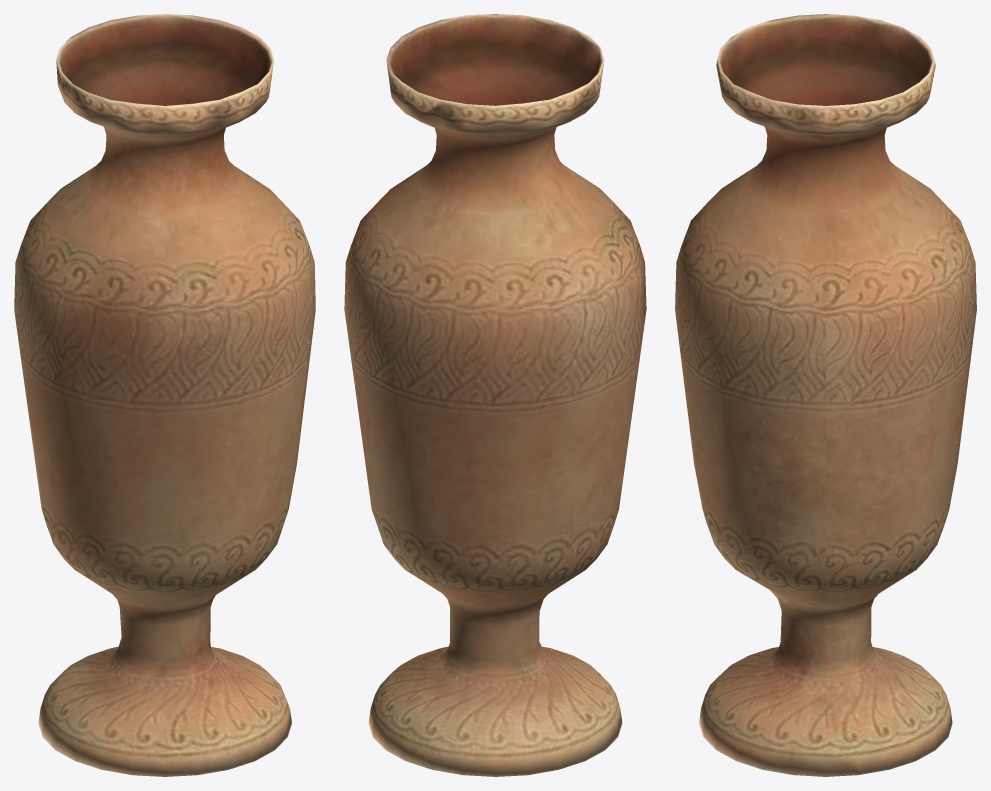
File: brass_vase_03.glb
3 renders of one model, left to right at view 1: azimuth 30°, elevation 25°; view 2: azimuth 150°, elevation 25°; view 3: azimuth 270°, elevation 25°, orthographic.
Visible parts, largest first — view 1: brass_vase_03; view 2: brass_vase_03; view 3: brass_vase_03.
Boxes of the visible parts, x1,y1,x2,y2 form: brass_vase_03: [14, 14, 315, 776]; brass_vase_03: [344, 14, 646, 776]; brass_vase_03: [675, 14, 976, 776].
Bounding box in the file's own units: 0.0825 × 0.2001 × 0.0825.
Materials: 1 (1 with a texture image).
